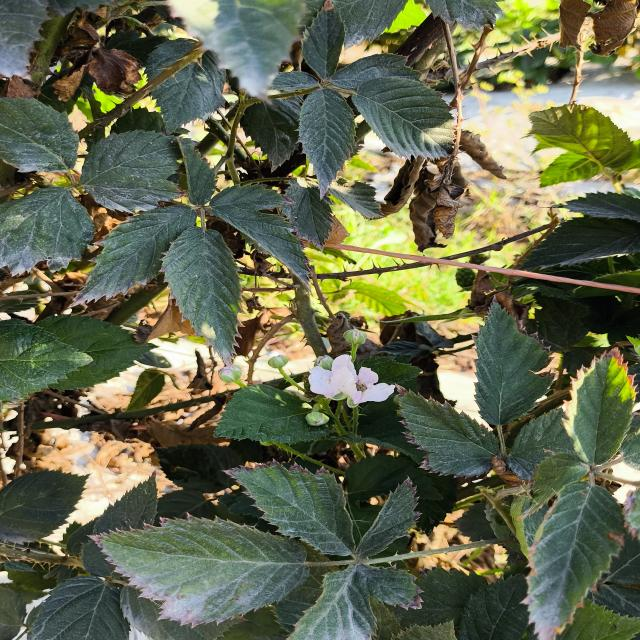boton: (218, 365, 246, 388), (343, 329, 367, 345), (306, 411, 329, 426), (268, 355, 288, 370), (316, 355, 333, 370)
flor: (309, 354, 395, 407)
